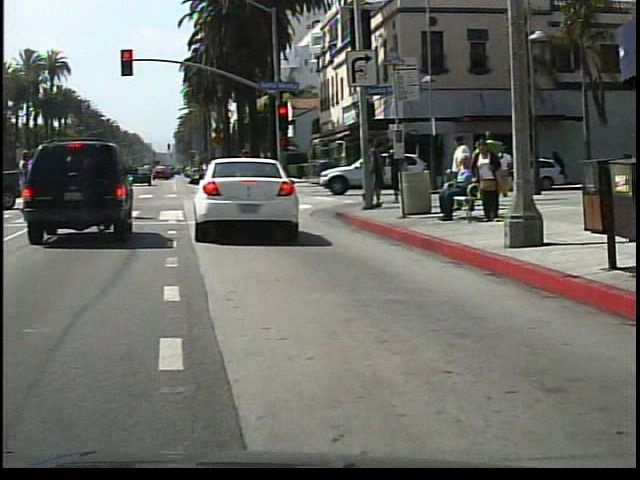person: (475, 135, 512, 229), (441, 156, 485, 221), (234, 142, 270, 218)
